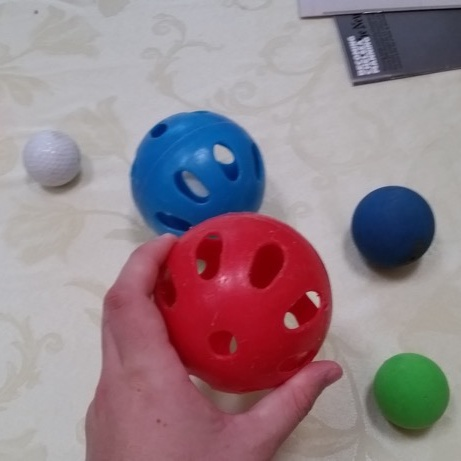ball: (156, 216, 330, 392), (132, 108, 264, 238)
